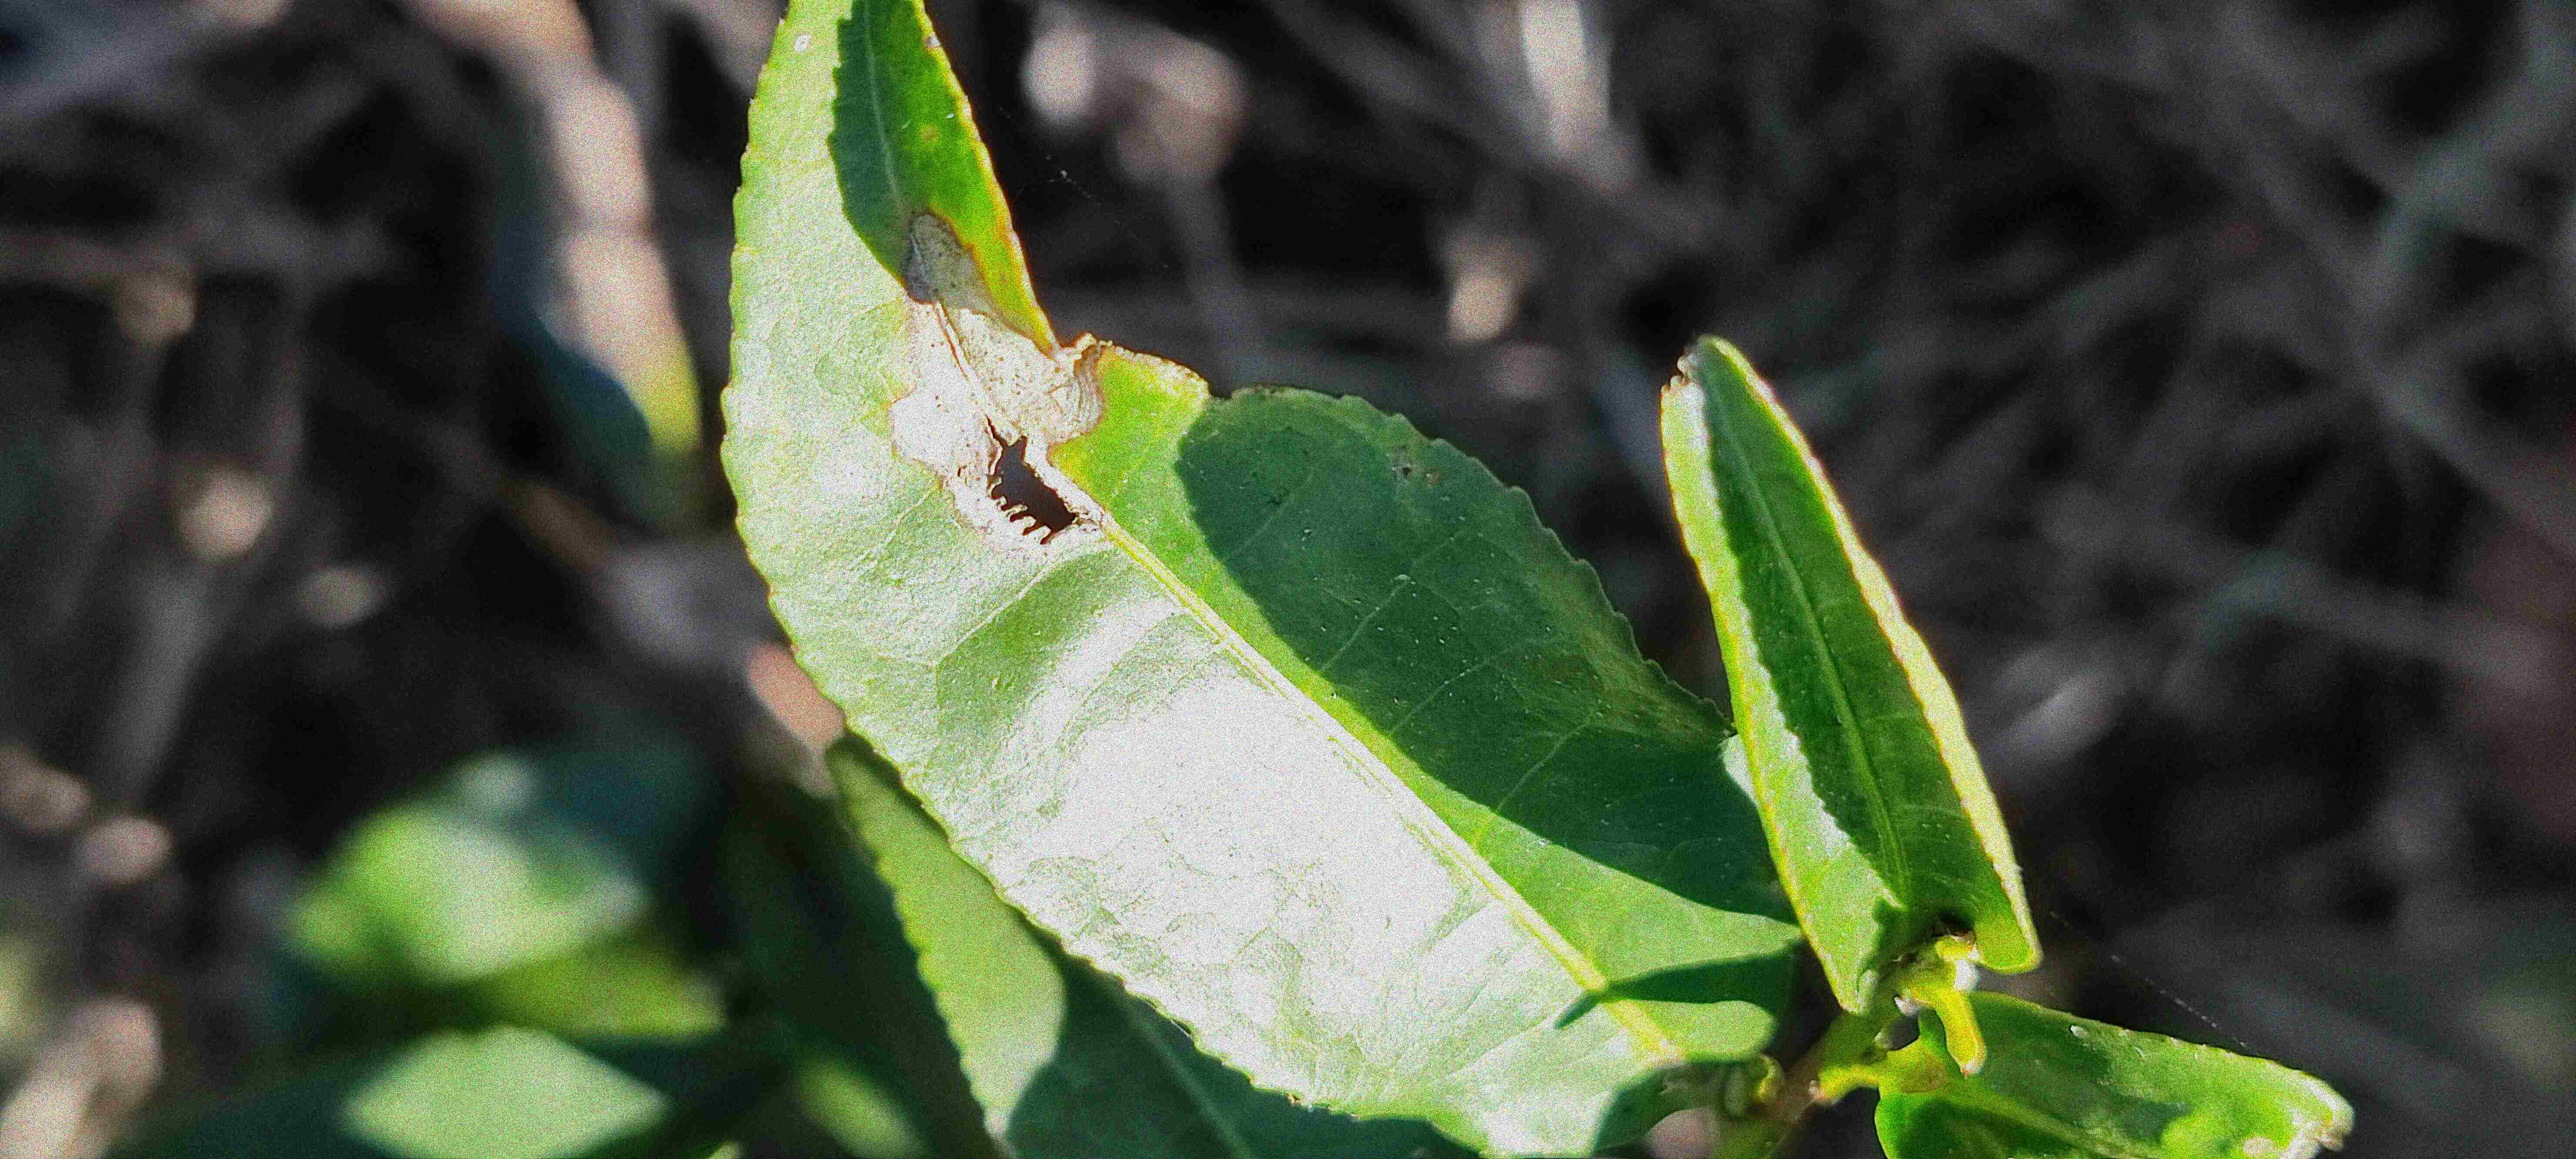tanju_high: (711, 0, 1799, 1151)
